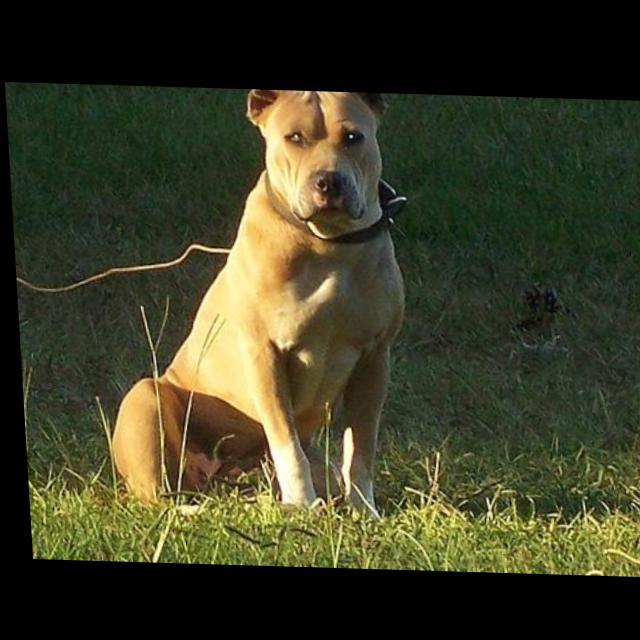amstaff: (87, 84, 420, 523)
